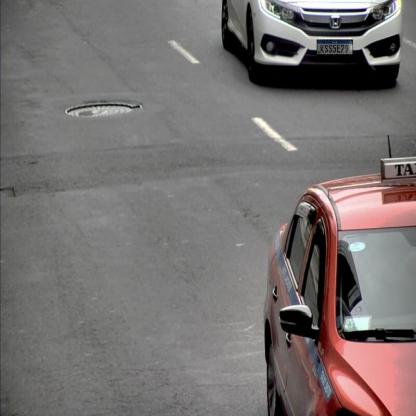PlacaM: (317, 39, 353, 55)
